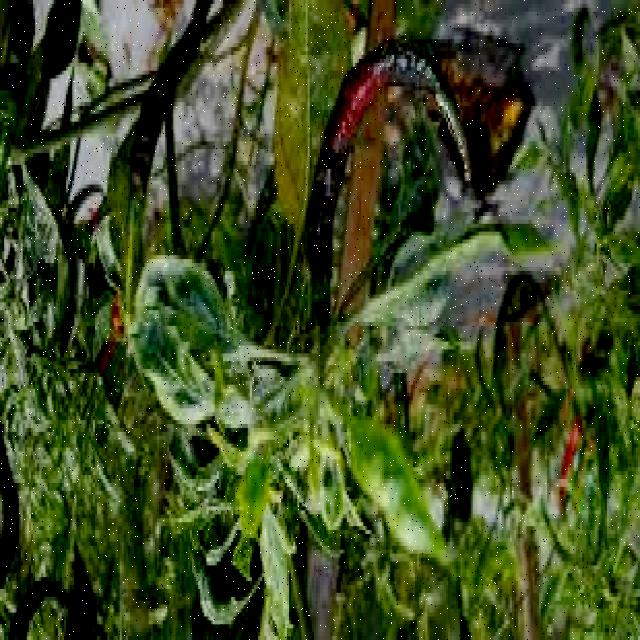leaf curl: (94, 246, 325, 558), (346, 320, 468, 606)
